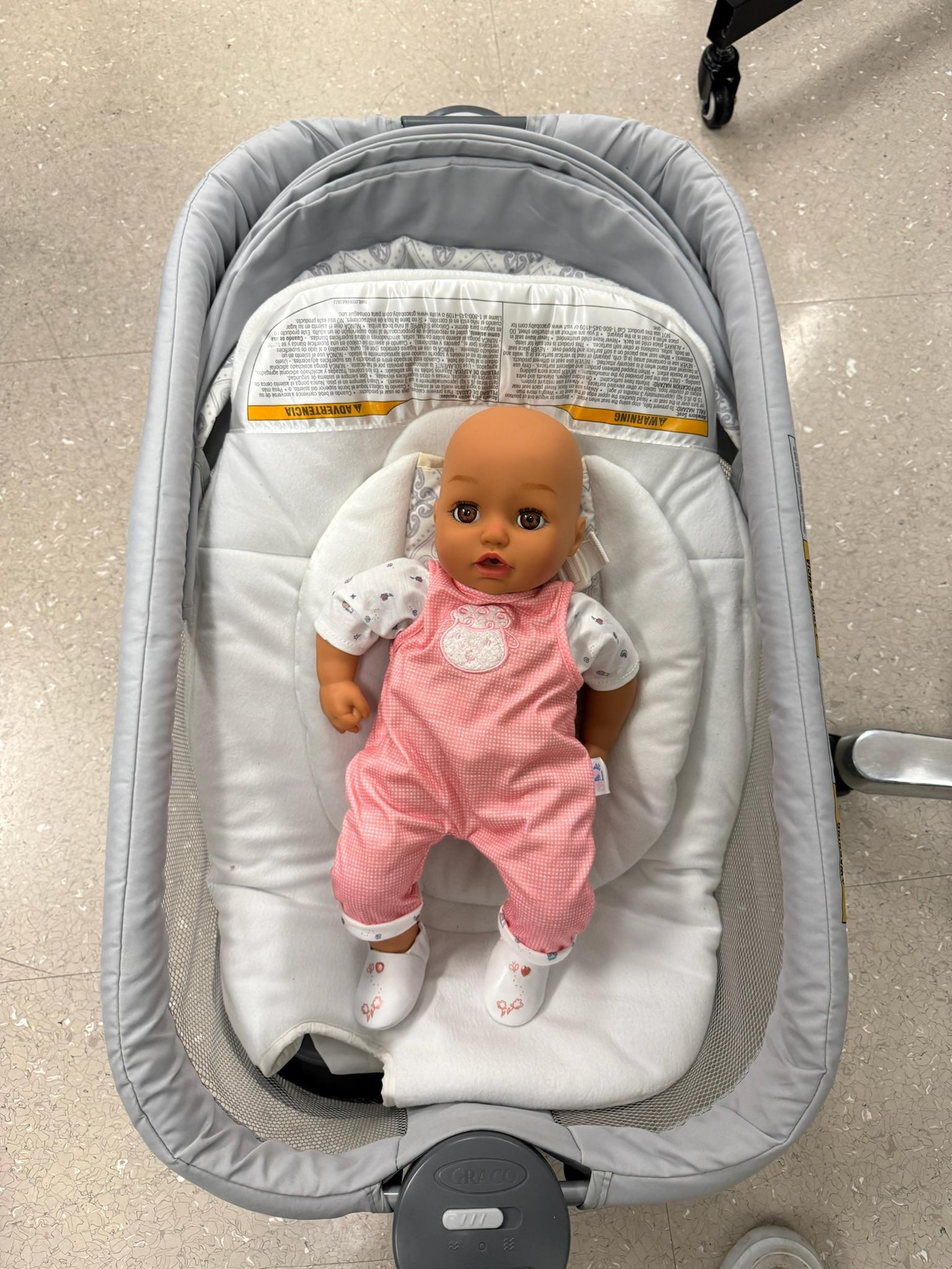baby: (288, 400, 649, 1035)
